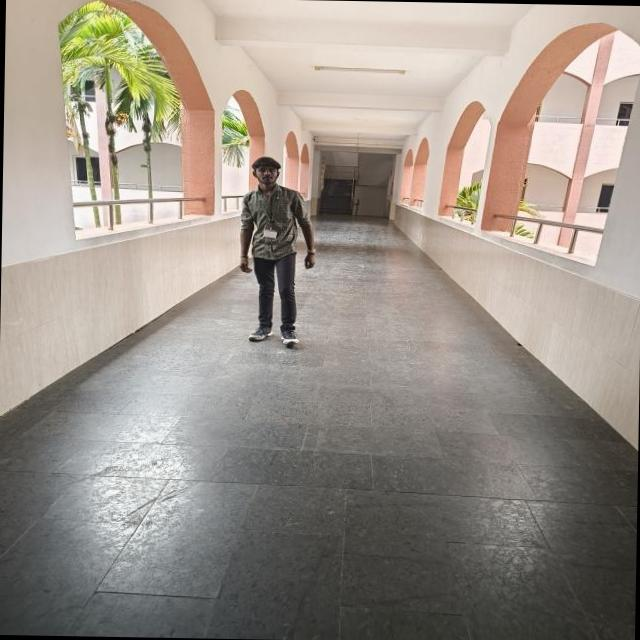id_card: (260, 187, 280, 241)
